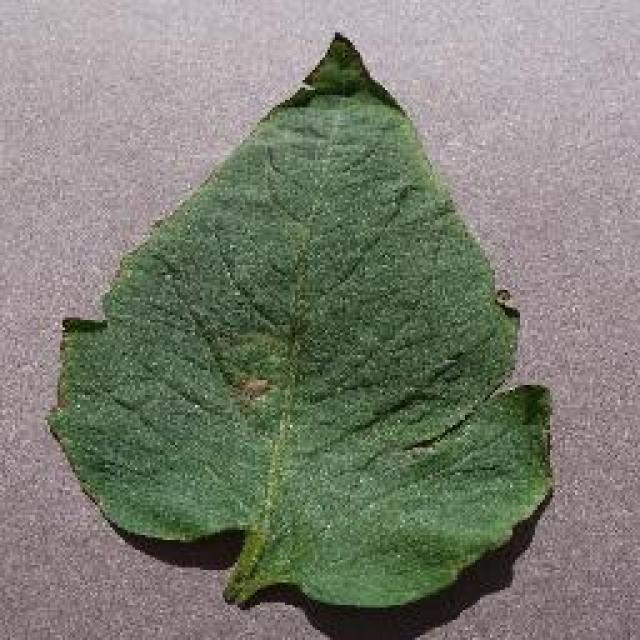Tomato Septoria spot leaf: (52, 32, 560, 618)
